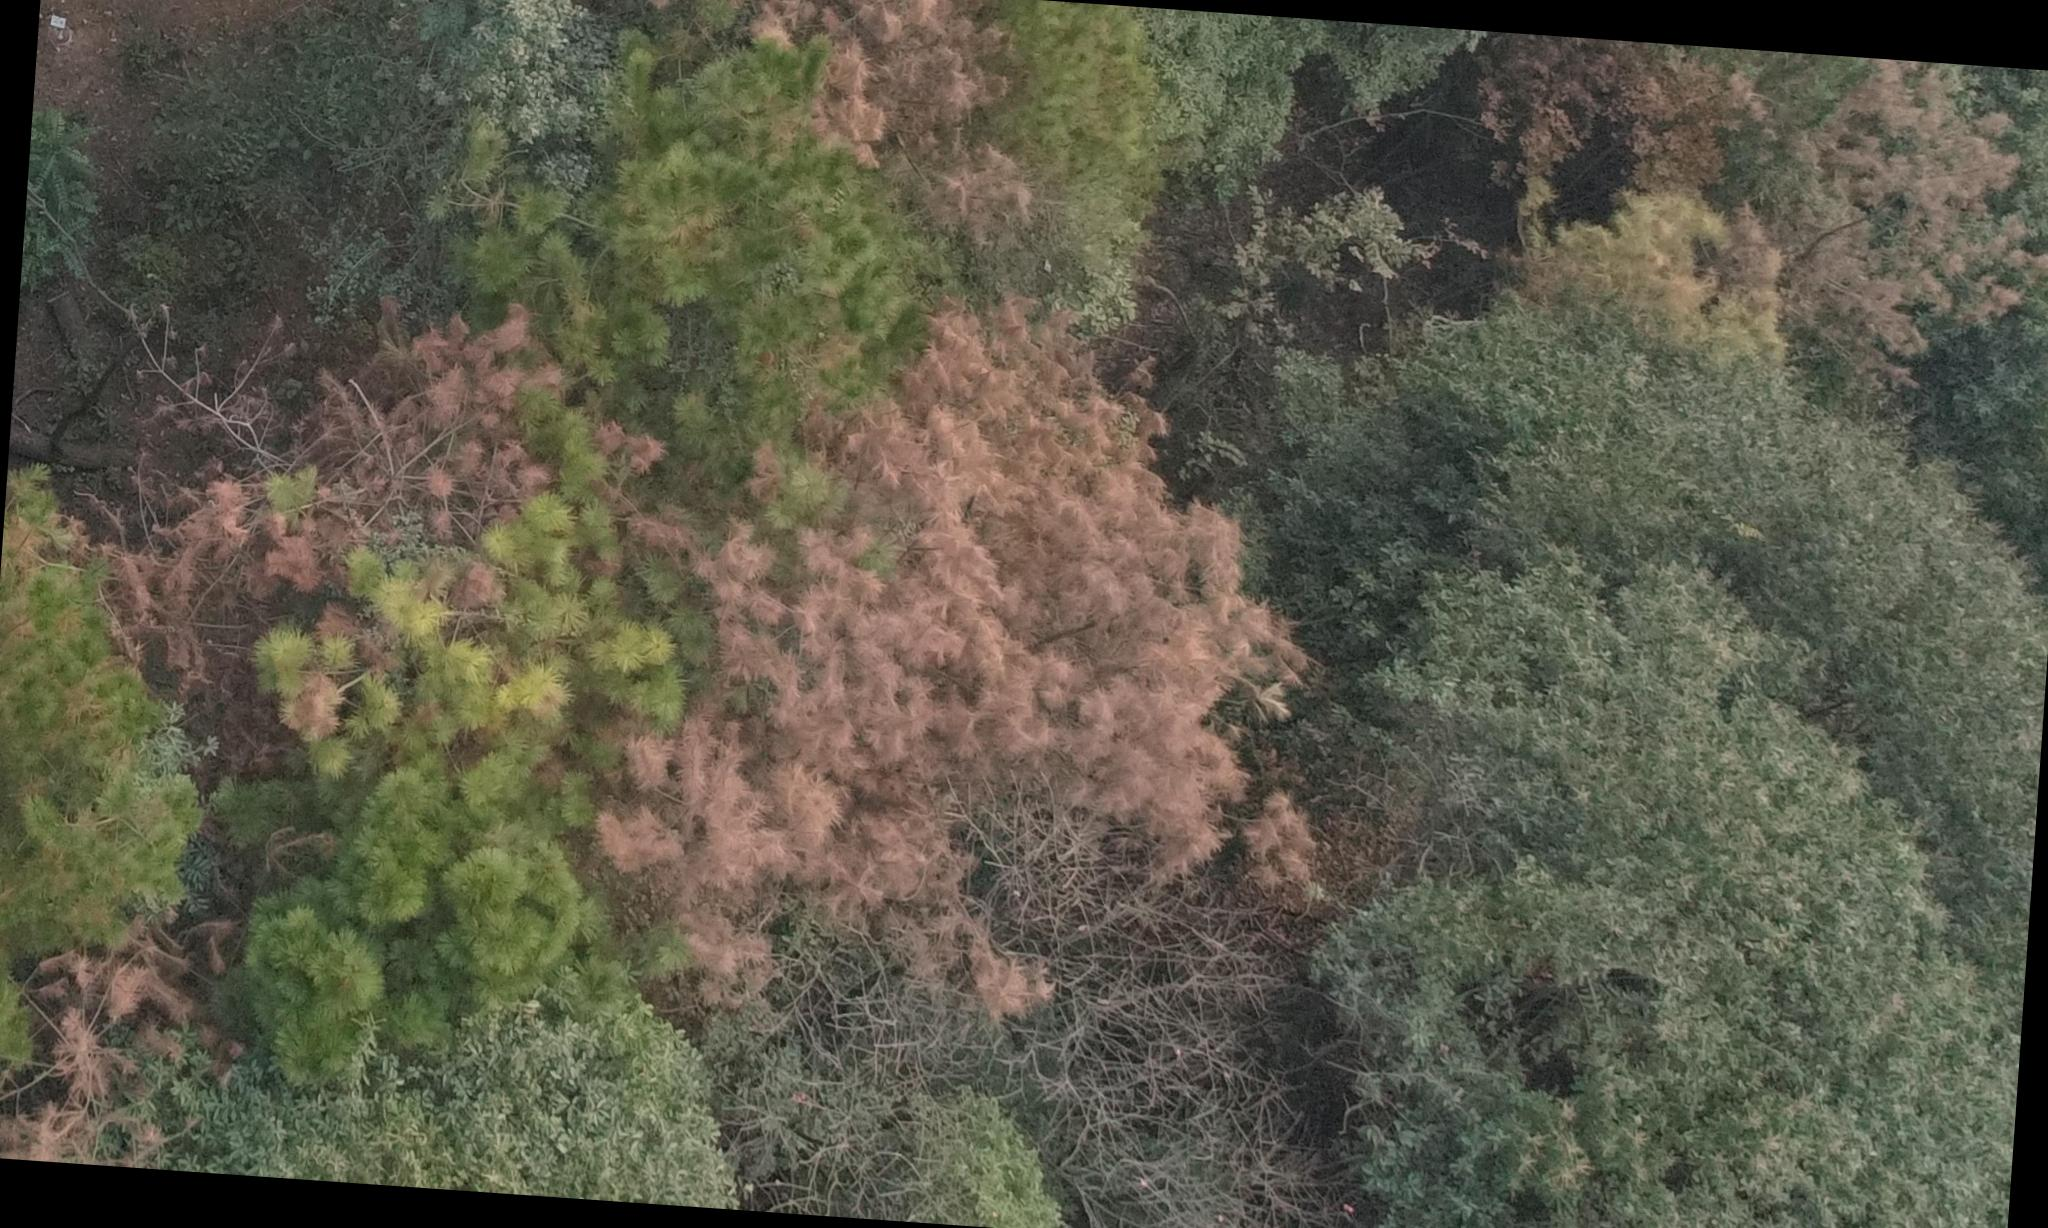dead: (636, 827, 1376, 1228)
heavy: (570, 262, 1352, 1041), (56, 297, 593, 838), (1466, 38, 2044, 424), (788, 0, 1063, 249), (0, 902, 235, 1172)
